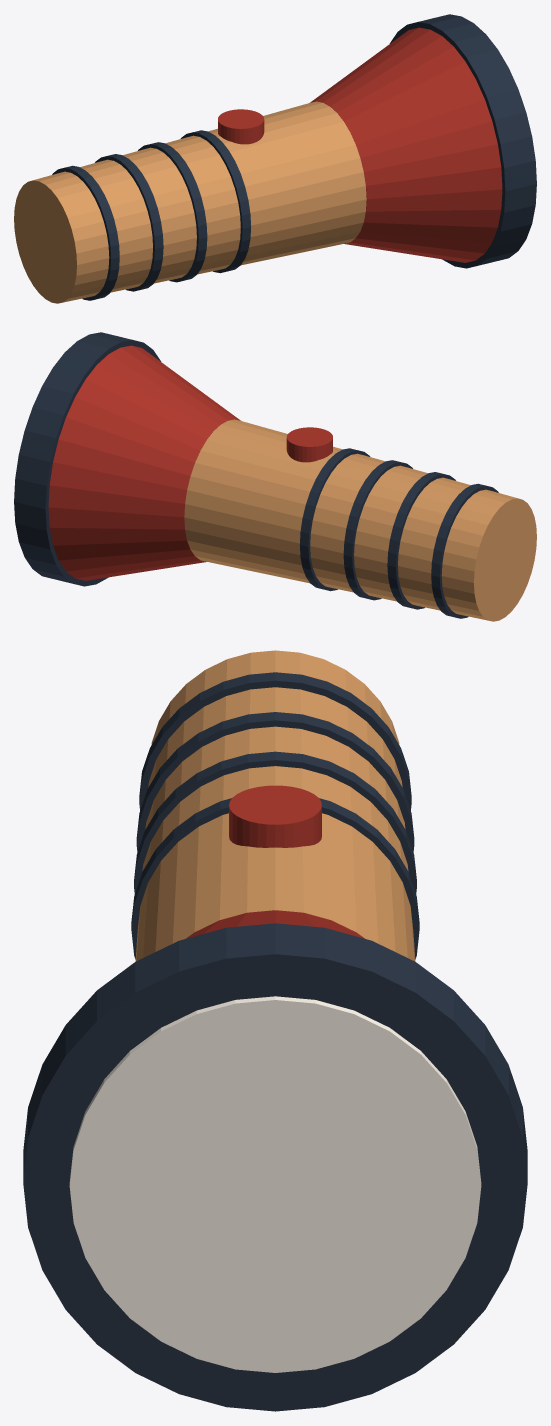
The model's file is flashlight.glb.
The picture shows the model from 3 angles, top to bottom: view 1: azimuth 30°, elevation 25°; view 2: azimuth 150°, elevation 25°; view 3: azimuth 270°, elevation 25°; orthographic projection. The views are drawn at different scales.
Parts seen in each view (by area): view 1: grip, head, bezel, grip ring 3, grip ring 2, grip ring 1, grip ring 0, switch; view 2: grip, head, bezel, grip ring 3, grip ring 2, grip ring 1, grip ring 0, switch; view 3: lens, bezel, grip, switch, grip ring 0, grip ring 1, grip ring 2, grip ring 3, head.
Boxes of the visible parts, x1,y1,x2,y2 form: grip: (14, 101, 366, 303); head: (310, 27, 502, 262); bezel: (389, 14, 536, 268); grip ring 3: (180, 130, 250, 273); grip ring 2: (138, 142, 207, 282); grip ring 1: (95, 154, 163, 291); grip ring 0: (52, 165, 119, 300); switch: (218, 109, 264, 144); grip: (184, 419, 536, 621); head: (48, 345, 240, 580); bezel: (14, 332, 161, 586); grip ring 3: (300, 448, 370, 591); grip ring 2: (343, 460, 412, 600); grip ring 1: (387, 472, 455, 609); grip ring 0: (431, 483, 498, 618); switch: (286, 427, 332, 462); lens: (69, 996, 481, 1372); bezel: (23, 923, 527, 1411); grip: (135, 650, 415, 961); switch: (229, 785, 321, 847); grip ring 0: (139, 672, 411, 810); grip ring 1: (136, 712, 414, 852); grip ring 2: (134, 751, 416, 894); grip ring 3: (131, 798, 419, 959); head: (186, 910, 364, 938).
Bounding box in the file's own units: 1.5 × 0.76 × 0.76.
